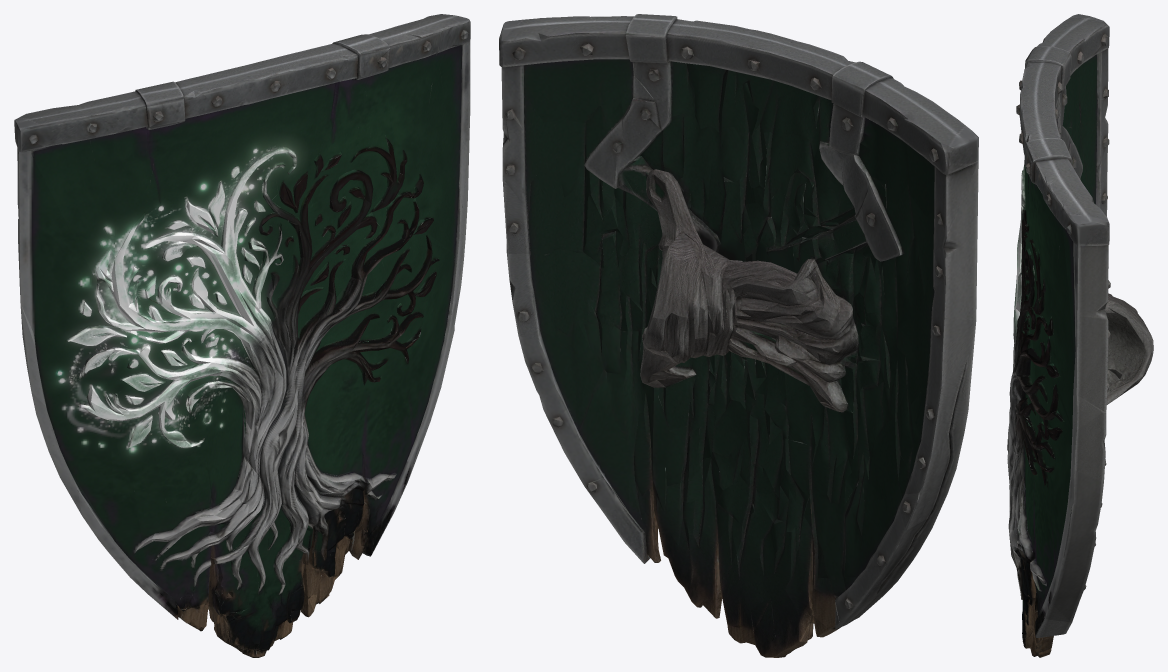
Rendered from scudo_guarnigione_sylvorn_rotto.glb.
3 views of the same model, side by side, from view 1: azimuth 30°, elevation 25°; view 2: azimuth 150°, elevation 25°; view 3: azimuth 270°, elevation 25° (orthographic). The views are drawn at different scales.
Parts seen in each view (by area): view 1: mesh_node; view 2: mesh_node; view 3: mesh_node.
Boxes of the visible parts, x1,y1,x2,y2 form: mesh_node: (14, 14, 470, 657); mesh_node: (499, 14, 978, 657); mesh_node: (1007, 14, 1153, 657).
Size of the model in its own units: 1.53 by 1.9 by 0.4497.
1 material, 1 textured.
